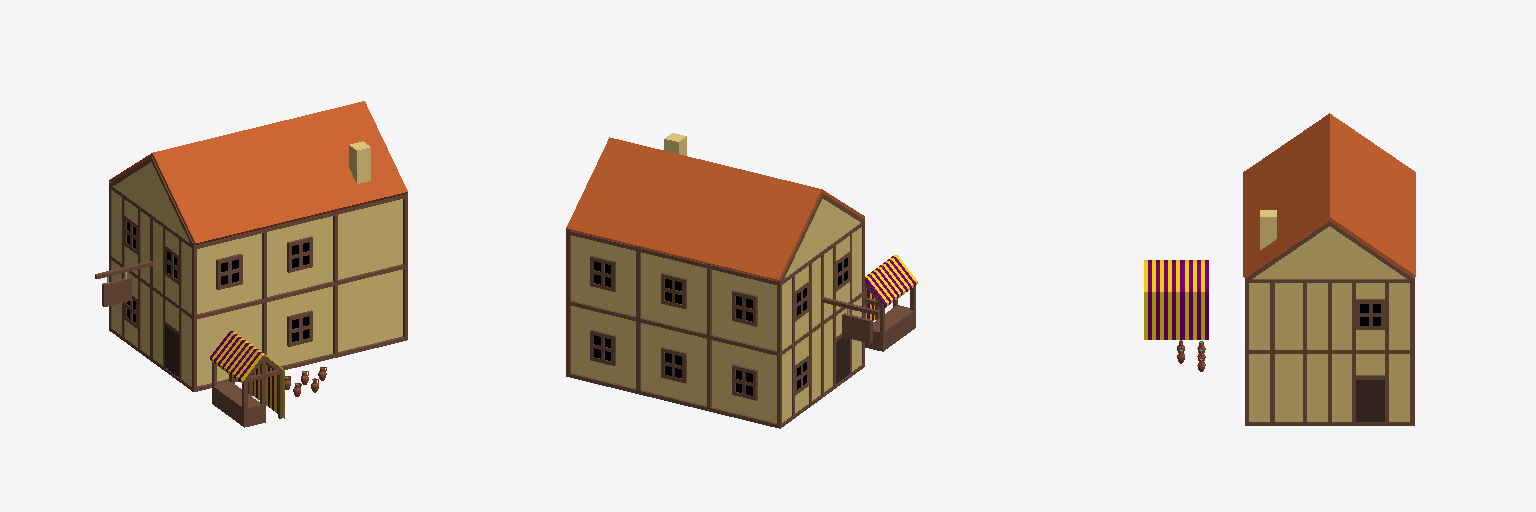
The model's file is timberframedpotter_purple_yellow.obj.
The picture shows the model from 3 angles: view 1: azimuth 30°, elevation 25°; view 2: azimuth 150°, elevation 25°; view 3: azimuth 270°, elevation 25°; orthographic projection.
Parts seen in each view (by area): view 1: Cube.005, Cube.007_Cube.011, Cube.011_Cube.015, Cube.018_Cube.016, Cube.056_Cube.081, Cube.001_Cube.058, Cube.013_Cube.080, Cube.006_Cube.010, Cube.055_Cube.059, Cube.026_Cube.019, Cube.073_Cube.078, Cube.012_Cube.017 (+5 smaller); view 2: Cube.005, Cube.007_Cube.011, Cube.022_Cube.025, Cube.023_Cube.026, Cube.021_Cube.024, Cube.015_Cube.020, Cube.019_Cube.022, Cube.017_Cube.021, Cube.014_Cube.018, Cube.008, Cube.020_Cube.023, Cube.073_Cube.078 (+6 smaller); view 3: Cube.005, Cube.007_Cube.011, Cube.147_Cube.153, Cube.003, Cube.033, Cube.027, Cube.047_Cube.049, Cube.031, Cube.016_Cube.013, Cube.006_Cube.010, Cube.032, Cube.012_Cube.017 (+4 smaller).
Part boxes in pixels (left/top/right/bottom): Cube.005: left=112, top=162, right=402, bottom=385; Cube.007_Cube.011: left=109, top=101, right=407, bottom=244; Cube.011_Cube.015: left=195, top=264, right=404, bottom=319; Cube.018_Cube.016: left=195, top=195, right=406, bottom=249; Cube.056_Cube.081: left=216, top=254, right=242, bottom=289; Cube.001_Cube.058: left=287, top=310, right=312, bottom=346; Cube.013_Cube.080: left=287, top=236, right=312, bottom=272; Cube.006_Cube.010: left=349, top=141, right=370, bottom=183; Cube.055_Cube.059: left=195, top=336, right=406, bottom=391; Cube.026_Cube.019: left=192, top=243, right=196, bottom=391; Cube.073_Cube.078: left=102, top=277, right=131, bottom=306; Cube.012_Cube.017: left=403, top=193, right=407, bottom=339; Cube.005: left=571, top=199, right=861, bottom=422; Cube.007_Cube.011: left=566, top=137, right=864, bottom=280; Cube.022_Cube.025: left=567, top=301, right=778, bottom=355; Cube.023_Cube.026: left=567, top=373, right=776, bottom=427; Cube.021_Cube.024: left=570, top=231, right=776, bottom=284; Cube.015_Cube.020: left=732, top=290, right=757, bottom=326; Cube.019_Cube.022: left=661, top=347, right=686, bottom=383; Cube.017_Cube.021: left=590, top=330, right=615, bottom=365; Cube.014_Cube.018: left=661, top=273, right=686, bottom=308; Cube.008: left=590, top=255, right=615, bottom=291; Cube.020_Cube.023: left=732, top=364, right=757, bottom=400; Cube.073_Cube.078: left=842, top=313, right=872, bottom=343; Cube.005: left=1249, top=226, right=1409, bottom=421; Cube.007_Cube.011: left=1243, top=113, right=1415, bottom=277; Cube.147_Cube.153: left=1144, top=292, right=1208, bottom=339; Cube.003: left=1356, top=380, right=1384, bottom=421; Cube.033: left=1356, top=299, right=1384, bottom=329; Cube.027: left=1410, top=277, right=1414, bottom=425; Cube.047_Cube.049: left=1270, top=279, right=1274, bottom=423; Cube.031: left=1248, top=422, right=1410, bottom=425; Cube.016_Cube.013: left=1248, top=350, right=1410, bottom=353; Cube.006_Cube.010: left=1260, top=210, right=1276, bottom=249; Cube.032: left=1248, top=279, right=1410, bottom=282; Cube.012_Cube.017: left=1245, top=277, right=1248, bottom=425.
Bounding box in the file's own units: 15.3 × 11.25 × 13.34.